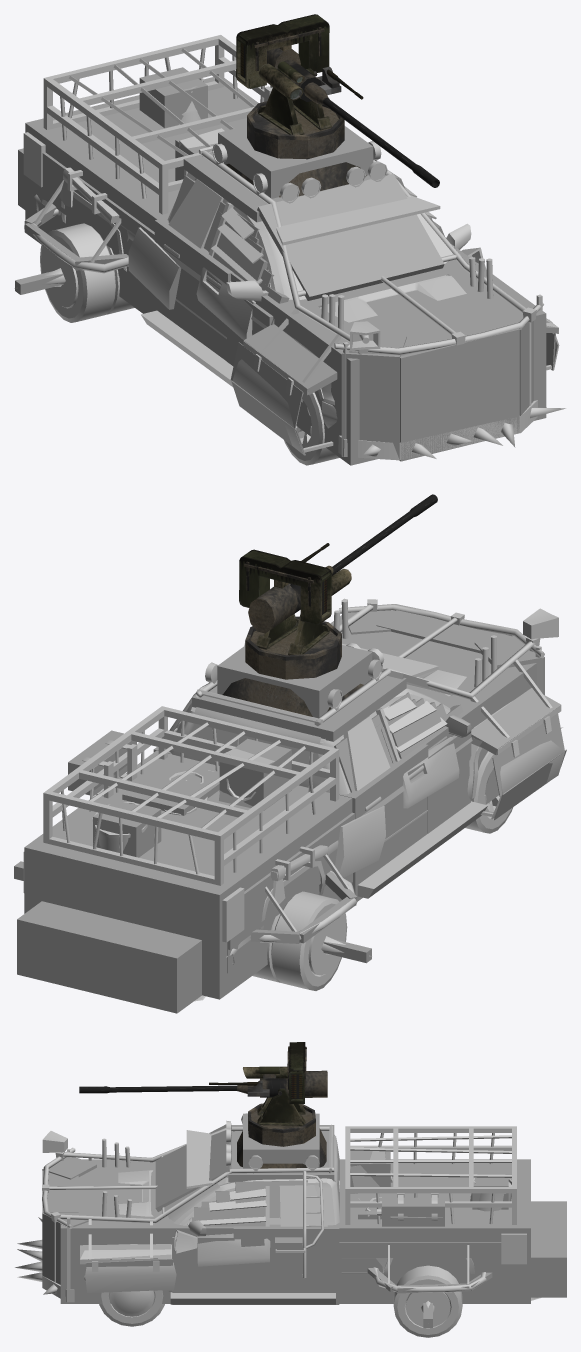
Rendered from mh_vehicle_Sierra2016_006.fbx.
3 views of the same model, one above another, from view 1: azimuth 30°, elevation 25°; view 2: azimuth 150°, elevation 25°; view 3: azimuth 270°, elevation 25° (orthographic). The views are drawn at different scales.
Visible parts, largest first — view 1: AdditionalParts, pCube1, pCube70, pCube5, Gun, CarBody, Turret, pCube72, pCube3, pCube9, Wheel_RR, pCube52 (+12 smaller); view 2: AdditionalParts, pCube1, pCube2, CarBody, Gun, Turret, pCube3, Wheel_RR, pCube9, pCube8, pCube52, pCube62 (+16 smaller); view 3: AdditionalParts, pCube1, CarBody, pCube3, Gun, pCube54, pCube2, Turret, pCube5, pCube55, Wheel_RL, pCube4 (+18 smaller).
Boxes of the visible parts, x1=… form: AdditionalParts: x1=23, y1=35, x2=565, y2=460; pCube1: x1=25, y1=77, x2=546, y2=465; pCube70: x1=395, y1=311, x2=519, y2=461; pCube5: x1=257, y1=173, x2=444, y2=300; Gun: x1=236, y1=14, x2=439, y2=187; CarBody: x1=34, y1=152, x2=471, y2=428; Turret: x1=247, y1=68, x2=344, y2=159; pCube72: x1=341, y1=332, x2=406, y2=459; pCube3: x1=154, y1=217, x2=233, y2=361; pCube9: x1=218, y1=125, x2=373, y2=198; Wheel_RR: x1=40, y1=223, x2=134, y2=322; pCube52: x1=30, y1=152, x2=154, y2=255; AdditionalParts: x1=23, y1=598, x2=564, y2=1001; pCube1: x1=24, y1=615, x2=544, y2=999; pCube2: x1=17, y1=901, x2=201, y2=1013; CarBody: x1=169, y1=670, x2=512, y2=964; Gun: x1=239, y1=494, x2=437, y2=633; Turret: x1=245, y1=614, x2=341, y2=679; pCube3: x1=153, y1=740, x2=428, y2=901; Wheel_RR: x1=252, y1=891, x2=347, y2=990; pCube9: x1=217, y1=645, x2=372, y2=717; pCube8: x1=192, y1=676, x2=406, y2=741; pCube52: x1=227, y1=813, x2=354, y2=949; pCube62: x1=122, y1=760, x2=219, y2=815; AdditionalParts: x1=15, y1=1113, x2=540, y2=1302; pCube1: x1=60, y1=1159, x2=530, y2=1303; CarBody: x1=83, y1=1135, x2=474, y2=1304; pCube3: x1=233, y1=1223, x2=339, y2=1304; Gun: x1=79, y1=1042, x2=327, y2=1103; pCube54: x1=339, y1=1258, x2=519, y2=1288; pCube2: x1=531, y1=1201, x2=566, y2=1297; Turret: x1=248, y1=1088, x2=315, y2=1146; pCube5: x1=155, y1=1124, x2=231, y2=1211; pCube55: x1=339, y1=1242, x2=501, y2=1257; Wheel_RL: x1=393, y1=1265, x2=462, y2=1337; pCube4: x1=172, y1=1259, x2=234, y2=1304.
Size of what is drawn, in the model's own units: 353 by 310 by 656.
